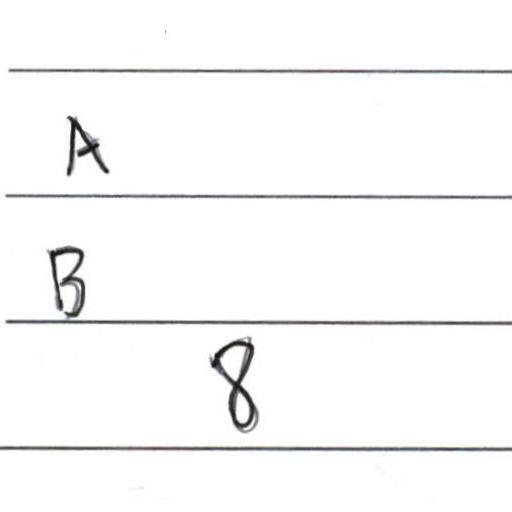ans: (200, 329, 262, 432), (40, 235, 89, 318), (63, 116, 110, 179)
